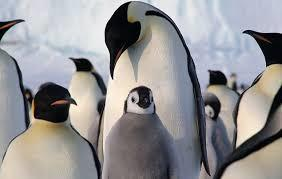emporer: (96, 0, 215, 179)
